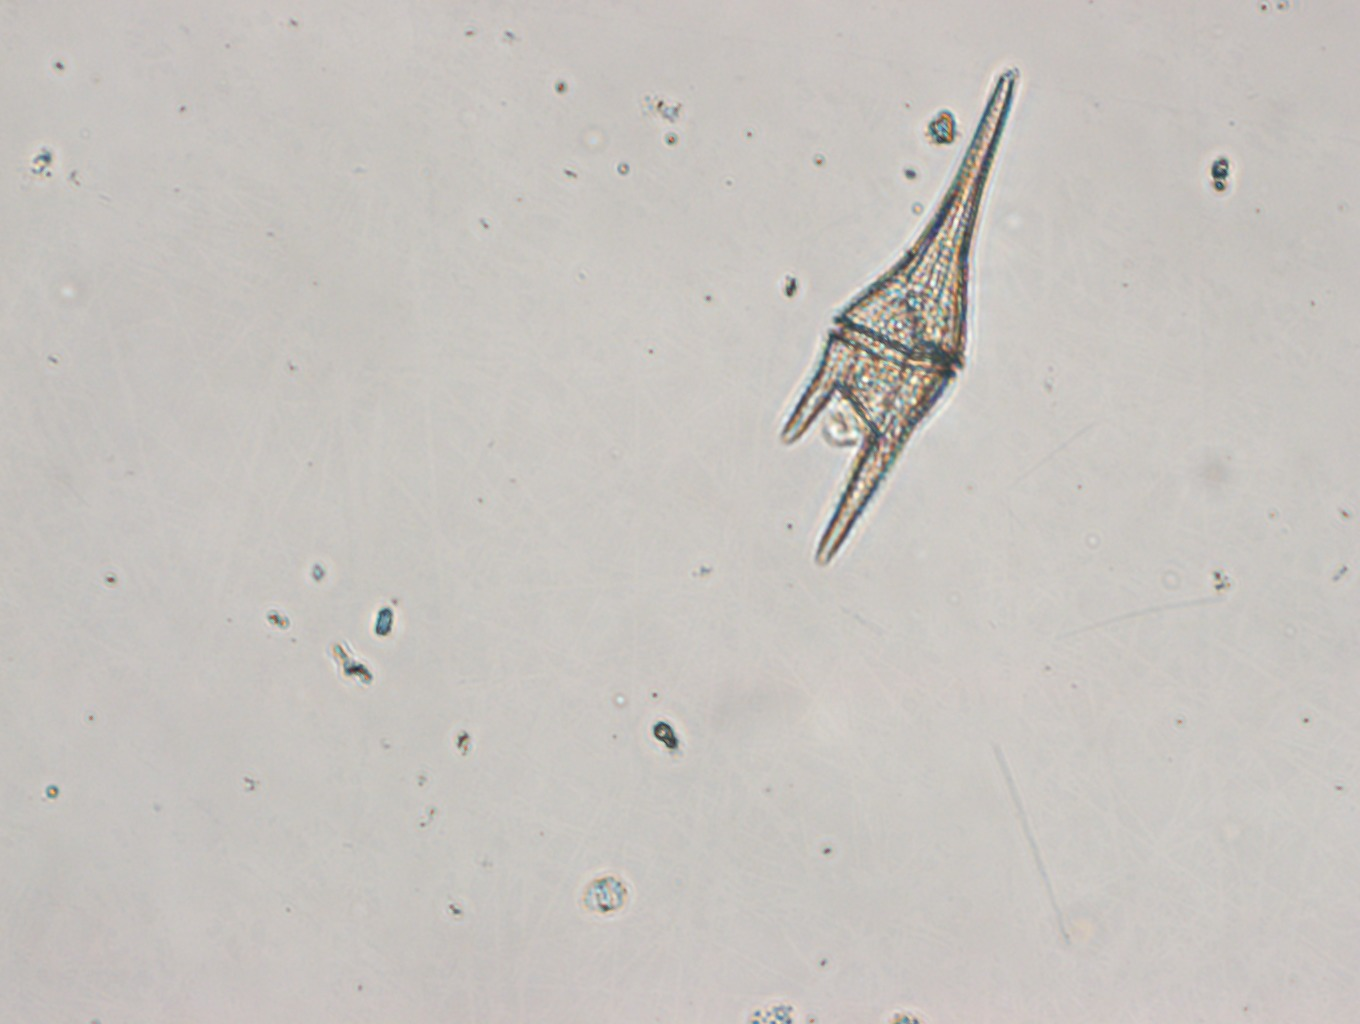ceratium furca: (776, 57, 1025, 570)
